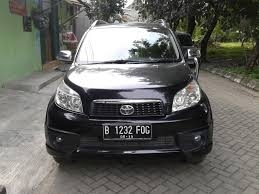plate: (103, 124, 152, 140)
